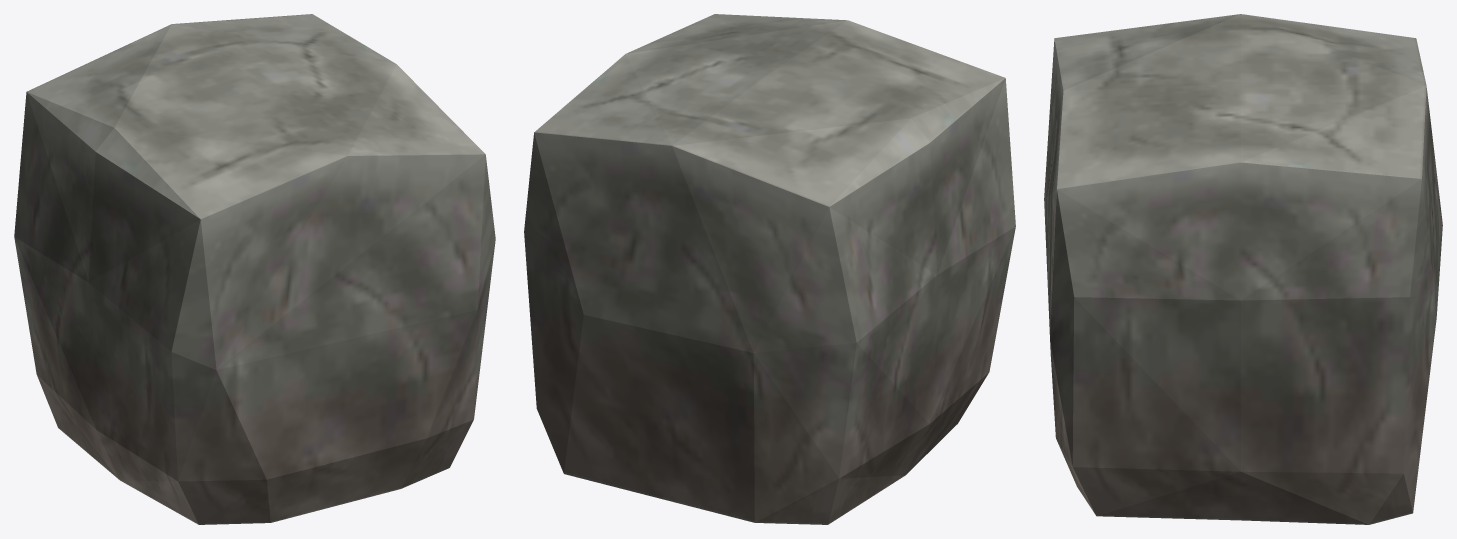
The model's file is Strength Boulder.obj.
3 renders of one model, left to right at view 1: azimuth 30°, elevation 25°; view 2: azimuth 150°, elevation 25°; view 3: azimuth 270°, elevation 25°, orthographic. The views are drawn at different scales.
Parts seen in each view (by area): view 1: Strength_Rock; view 2: Strength_Rock; view 3: Strength_Rock.
Part boxes in pixels (x1=…): Strength_Rock: x1=14, y1=14, x2=495, y2=524; Strength_Rock: x1=524, y1=14, x2=1015, y2=524; Strength_Rock: x1=1044, y1=14, x2=1442, y2=524.
Bounding box in the file's own units: 1.11 × 1.13 × 1.1.
